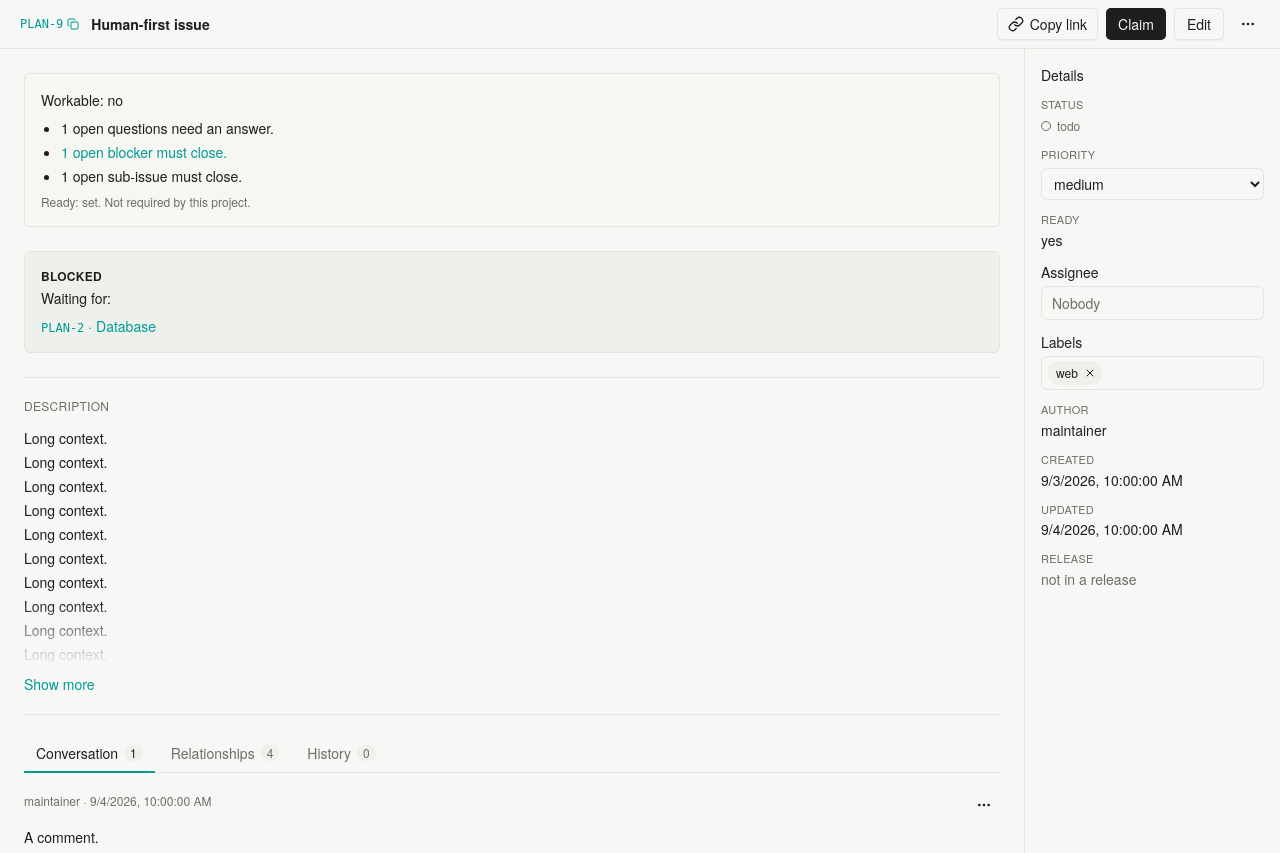
Scenario: the human-first issue detail › reports unavailable and refused clipboard writes without claiming success
Step 1. Click the button "Copy link" → (1047, 24), box [997,8,1098,40]
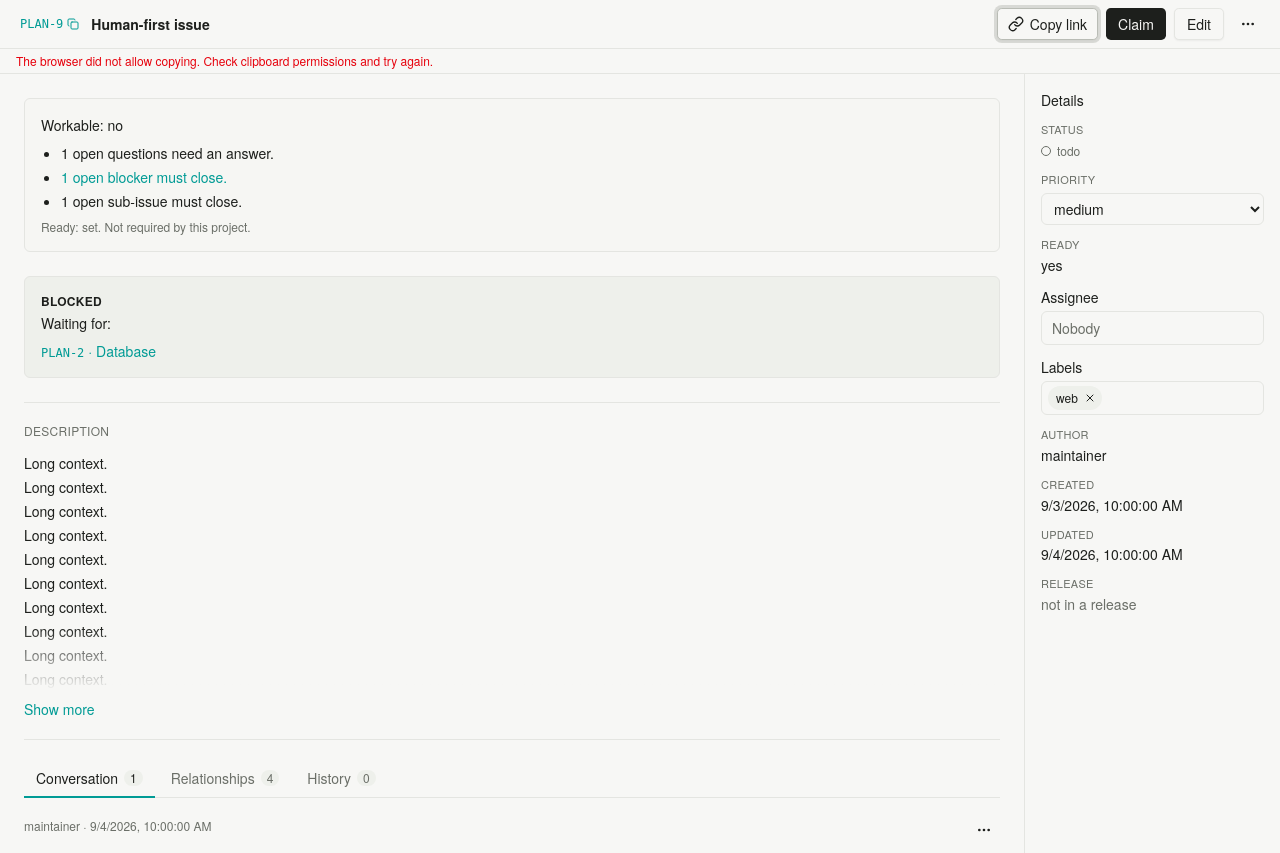
Expected: the message shows "did not allow copying", [16,52,433,69]
Step 2. Click the button with aria-label "Copy issue key PLAN-9" → (50, 24), box [16,16,83,32]
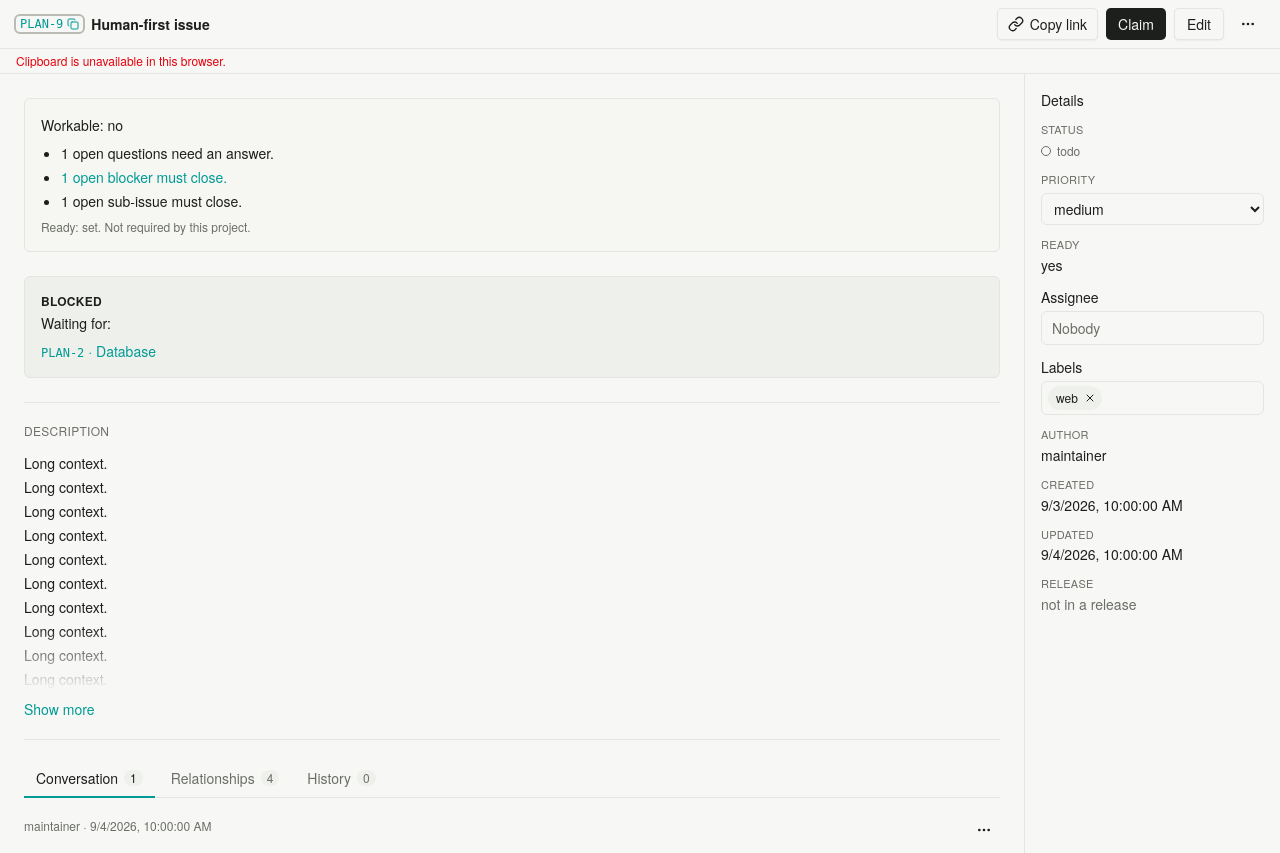
Expected: the message shows "Clipboard is unavailable", [16,52,226,69]
